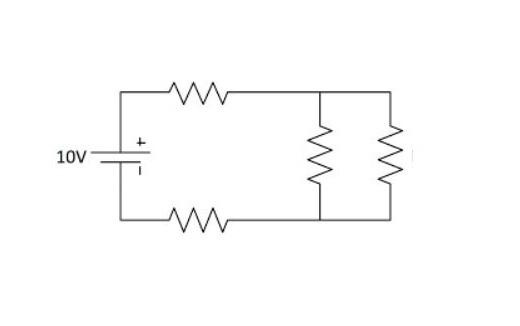resistor: (366, 105, 413, 213), (148, 67, 245, 114), (297, 109, 339, 200), (152, 201, 238, 244)
